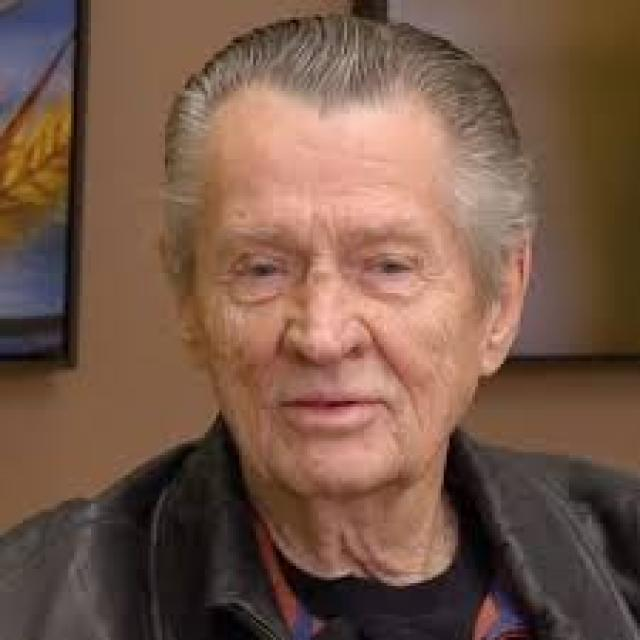normal_face: (158, 55, 548, 521)
